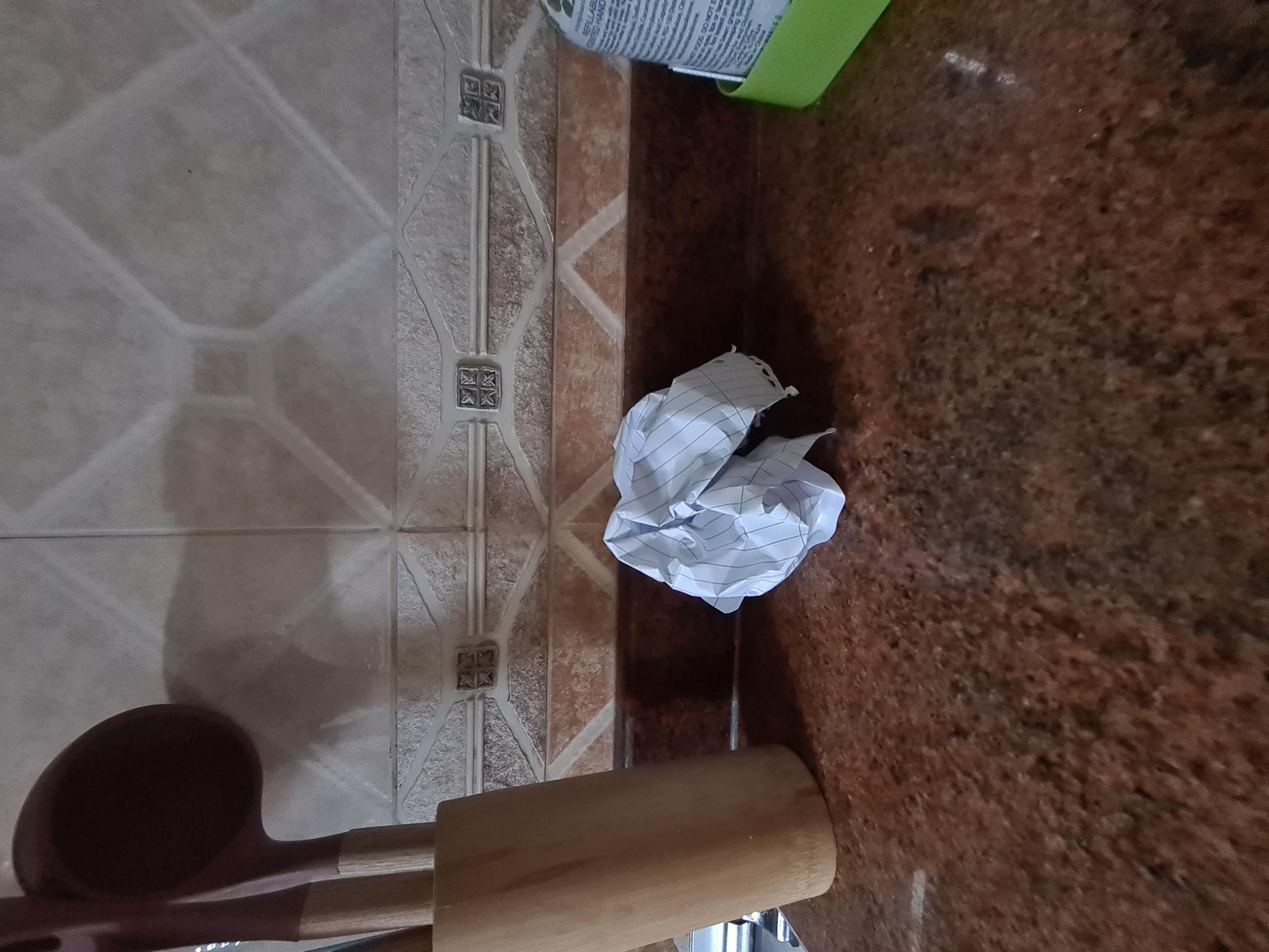Kertas: (337, 589, 602, 864)
